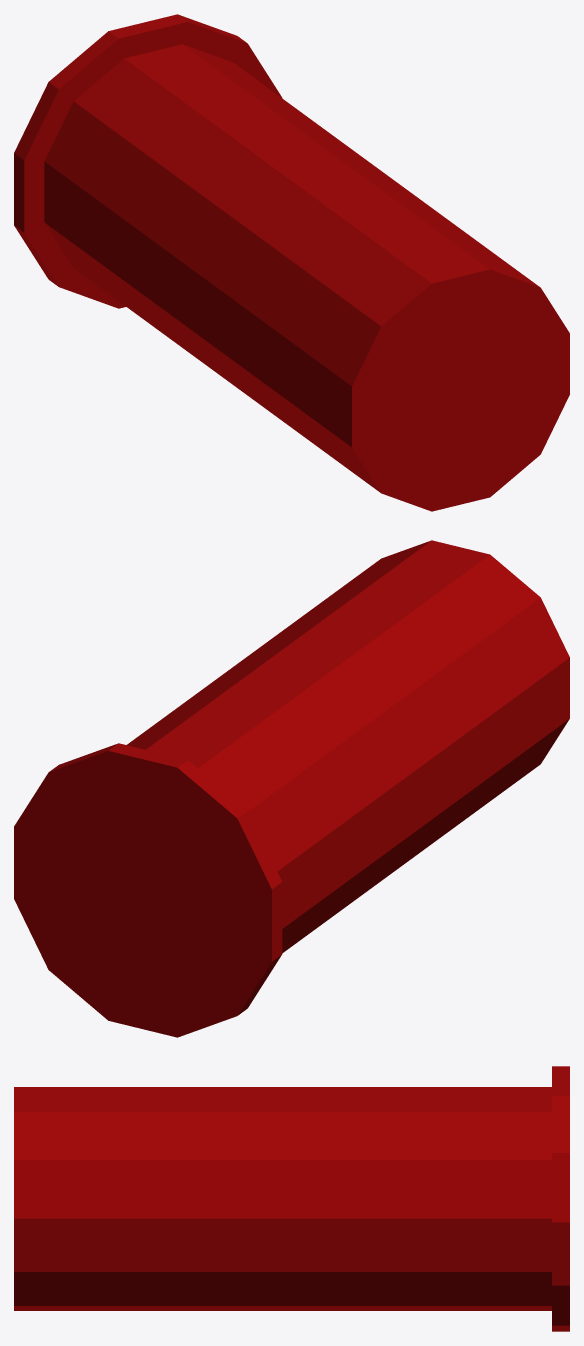
The model's file is ShotgunShellUV.fbx.
3 views of the same model, one above another, from view 1: azimuth 30°, elevation 25°; view 2: azimuth 150°, elevation 25°; view 3: azimuth 270°, elevation 25° (orthographic). The views are drawn at different scales.
Parts seen in each view (by area): view 1: Shell; view 2: Shell; view 3: Shell.
Part boxes in pixels (x1,y1,x2,y2): Shell: (14, 14, 569, 511); Shell: (14, 540, 569, 1037); Shell: (14, 1066, 569, 1331).
Size of the model in its own units: 0.0713 by 0.0713 by 0.1523.
